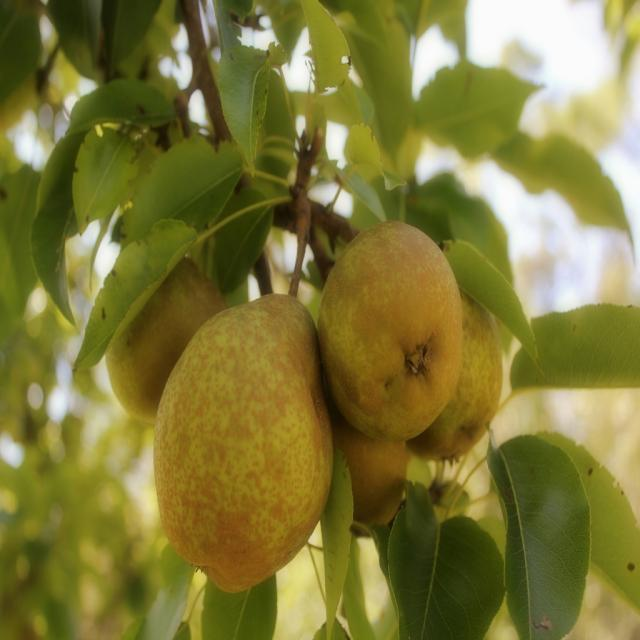pear: (151, 290, 331, 594), (316, 216, 462, 445), (101, 251, 232, 425), (406, 285, 504, 466), (323, 406, 408, 536)
